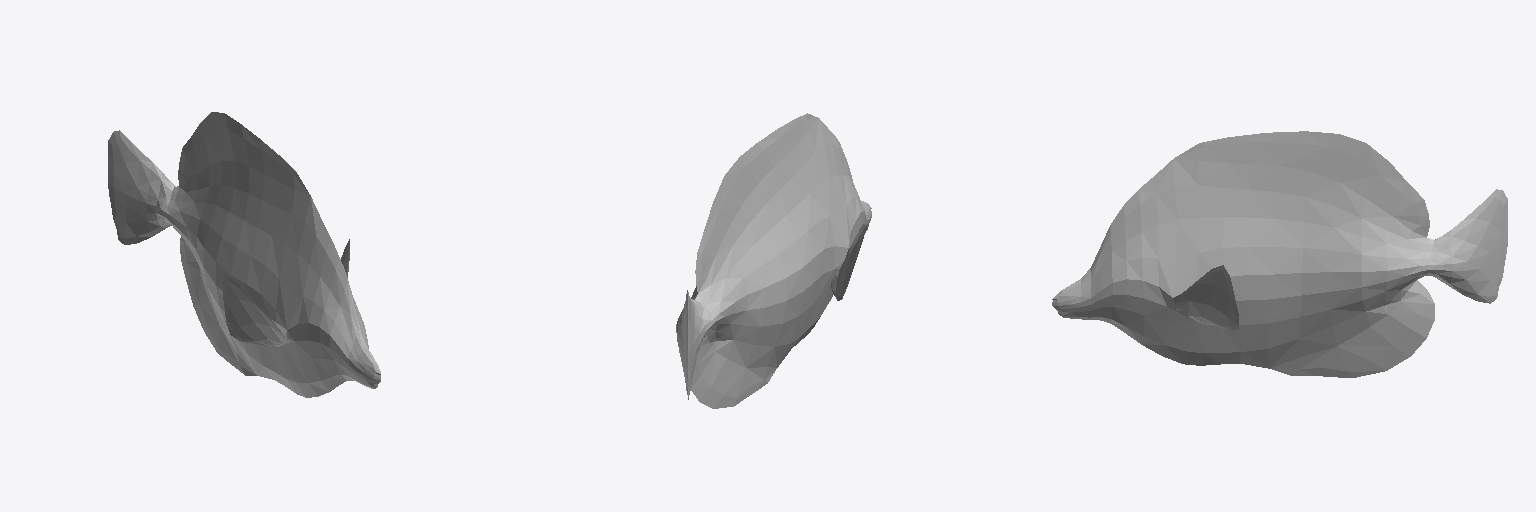
Rendered from yellowtang.obj.
3 views of the same model, side by side, from view 1: azimuth 30°, elevation 25°; view 2: azimuth 150°, elevation 25°; view 3: azimuth 270°, elevation 25° (orthographic).
Parts seen in each view (by area): view 1: Plane; view 2: Plane; view 3: Plane.
Boxes of the visible parts, box(x1,y1,x2,y2) form: Plane: box(108, 112, 380, 397); Plane: box(676, 113, 871, 408); Plane: box(1052, 131, 1507, 377).
Size of the model in its own units: 2.42 by 4.35 by 7.29.